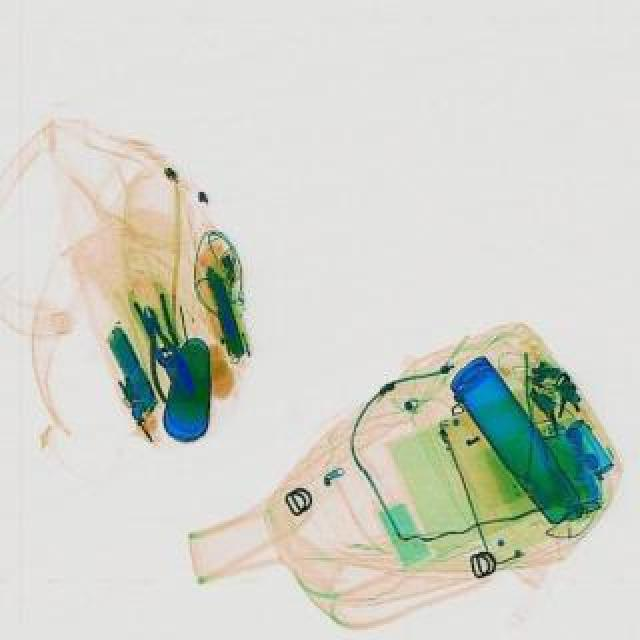wrench: (126, 300, 196, 404), (132, 292, 190, 372)
